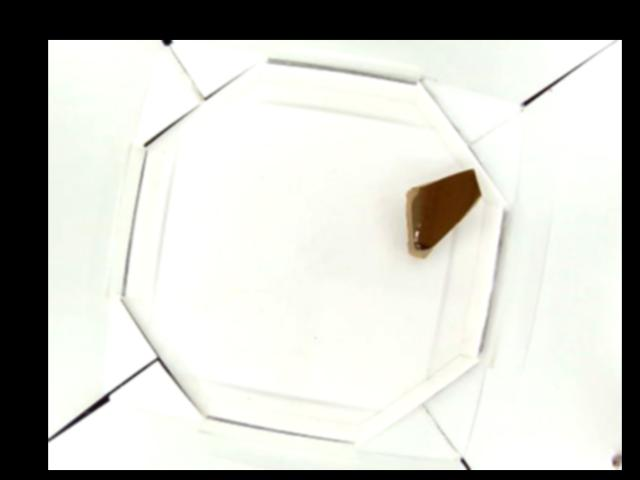China: (399, 167, 484, 261)
